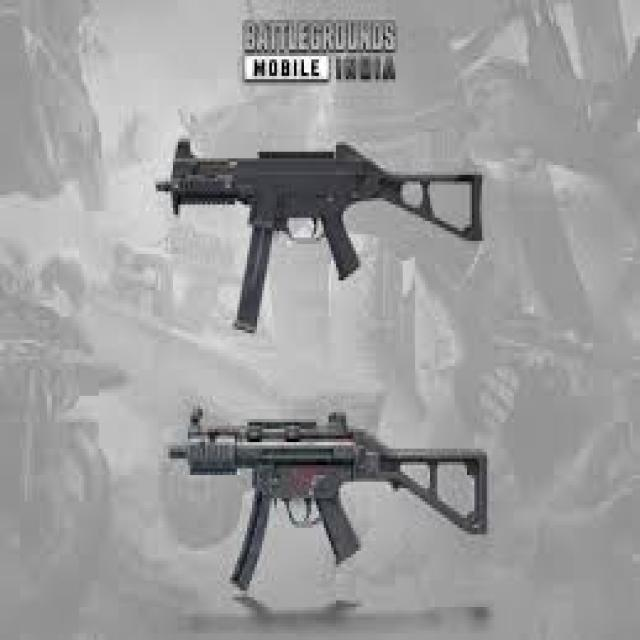Gun: (152, 383, 494, 598), (159, 123, 511, 299)
